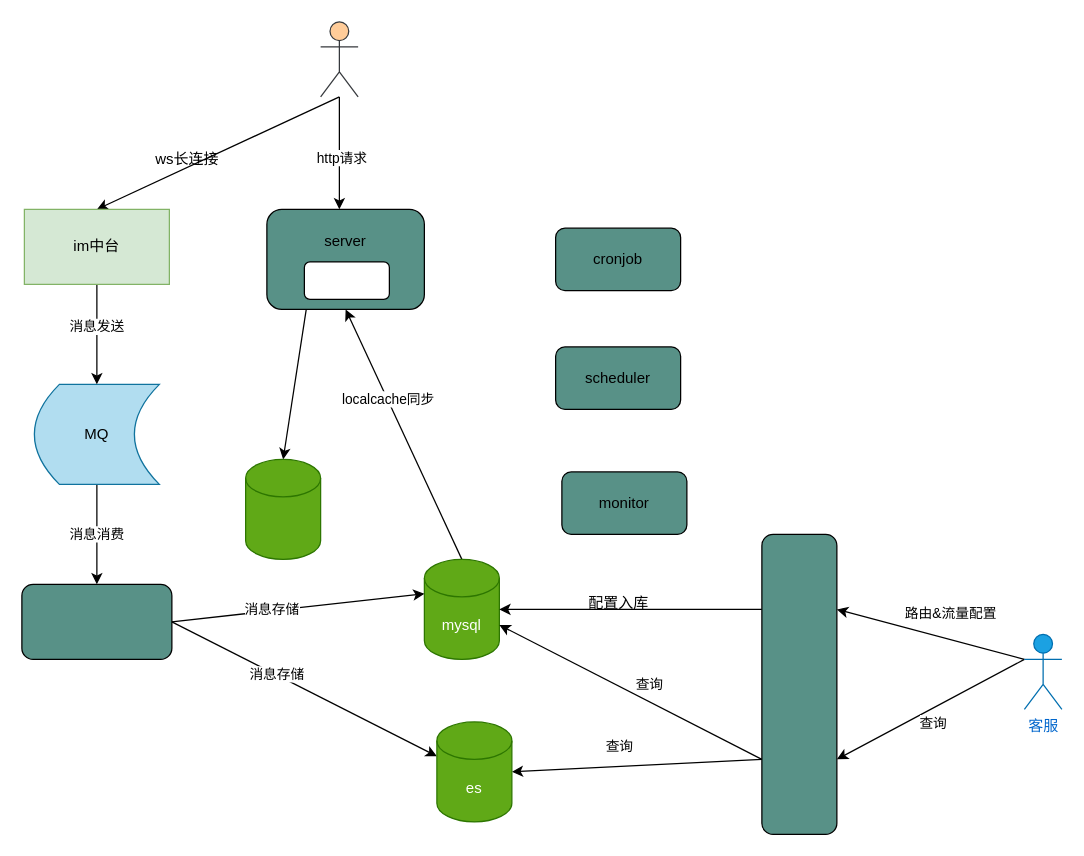
This 1084x856 diagram has some shape labels left out. Each missing label, with the centre of its shape:
"admin" belongs at point 799,683.
"consumer" belongs at point 96,621.
"localcache" belongs at point 346,280.
"redis" belongs at point 282,508.
"玩家" belongs at point 338,59.
